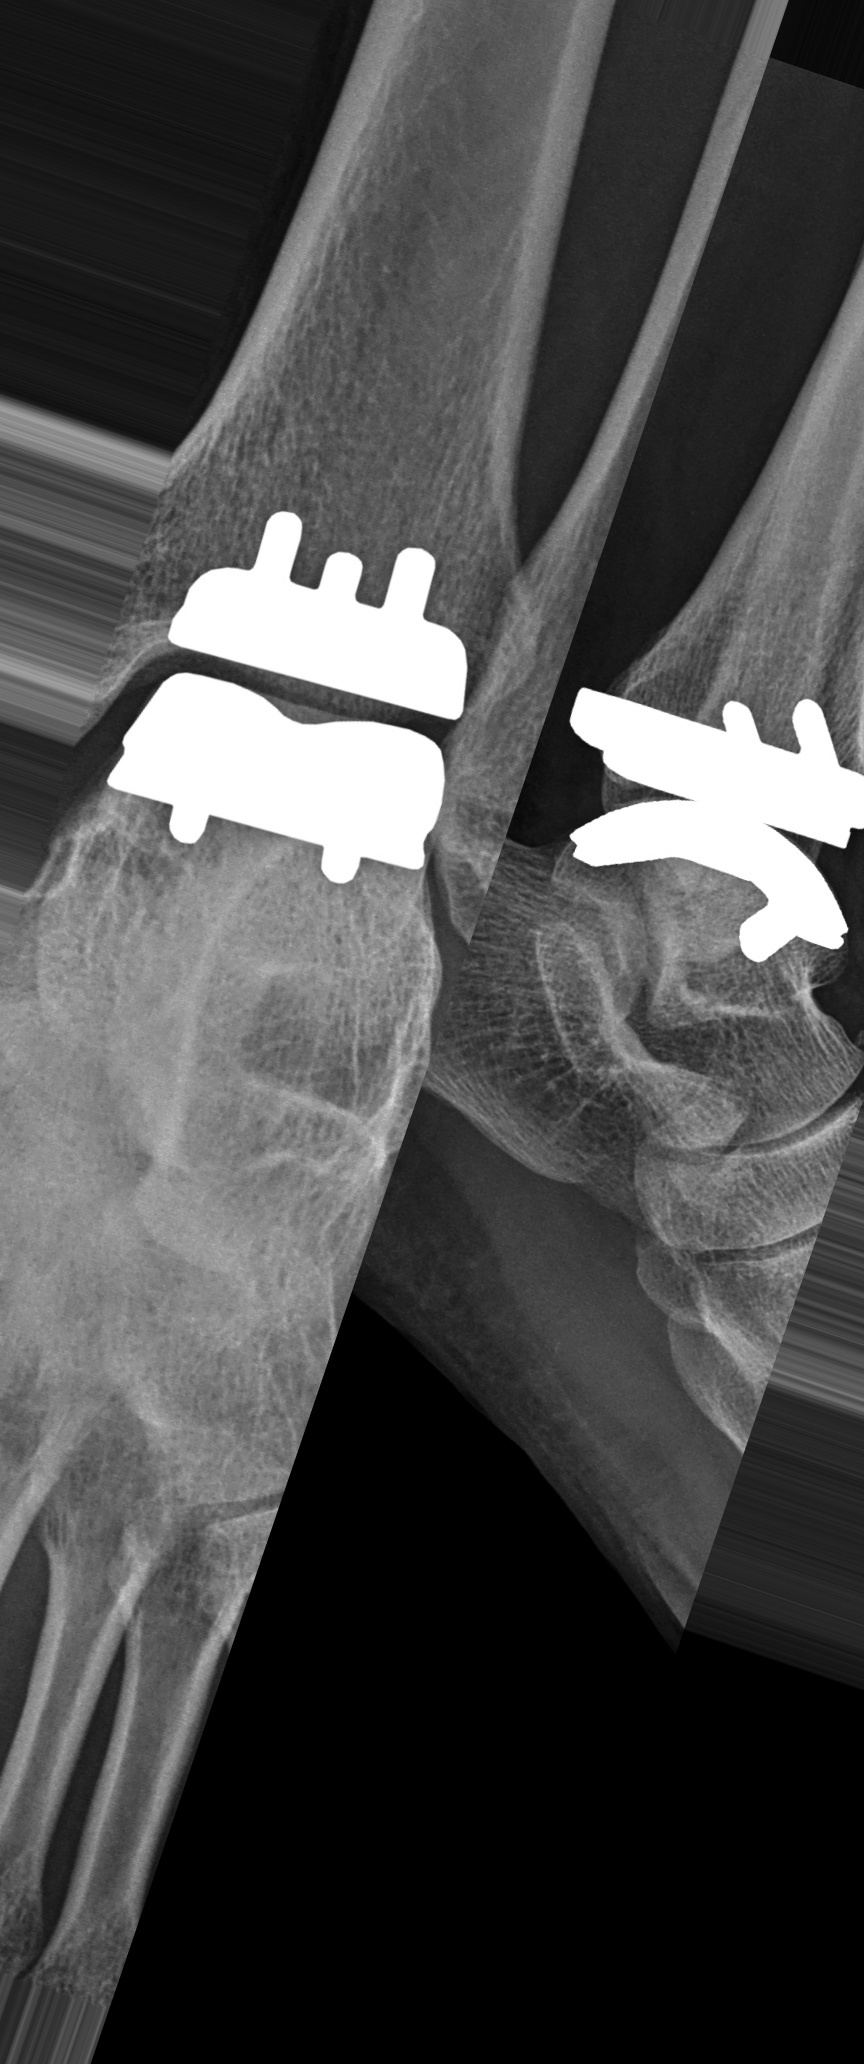Ankle - Infinity - Wright: (97, 482, 472, 919), (551, 658, 864, 970)
